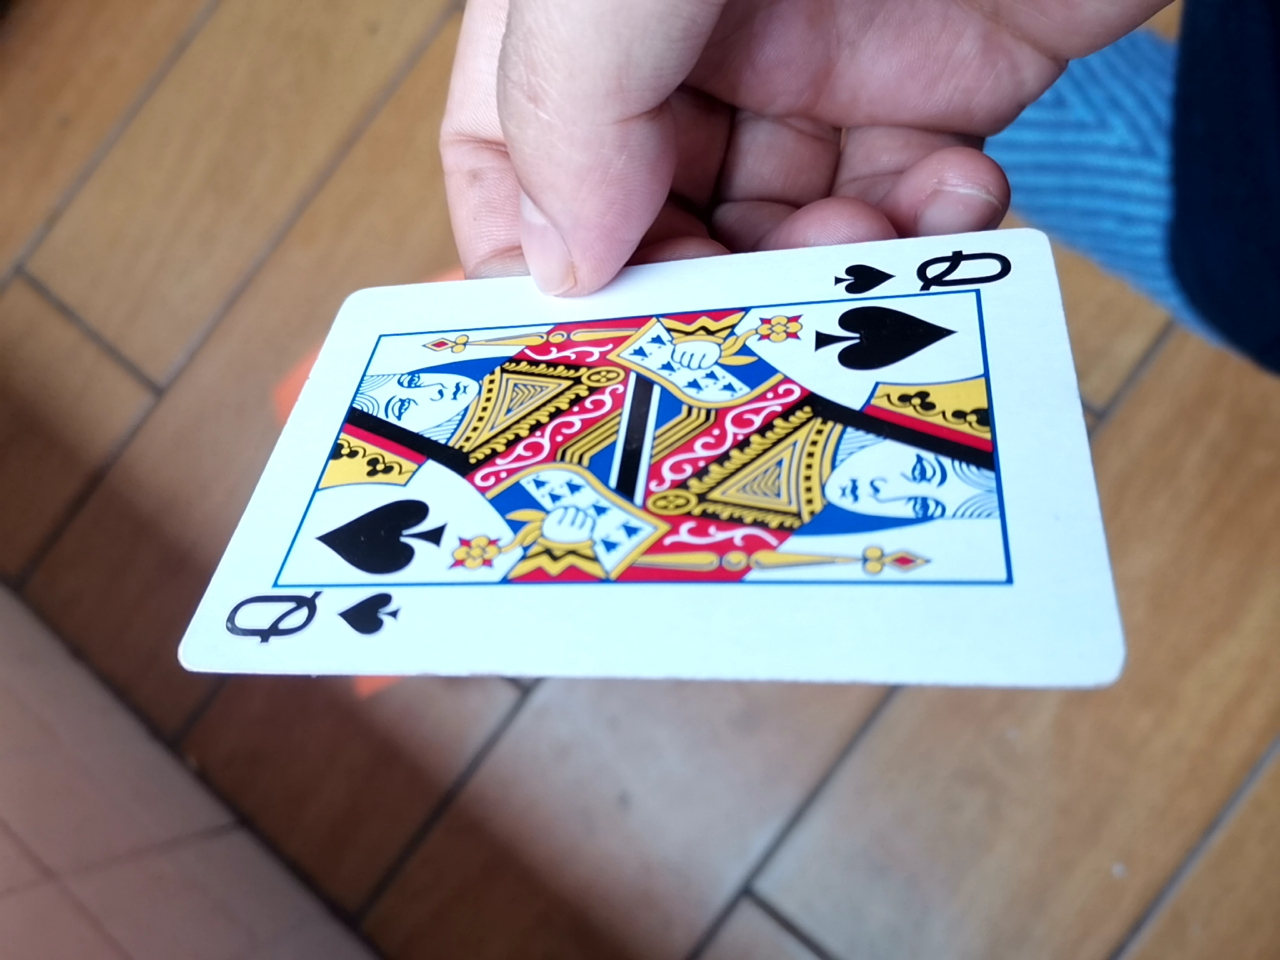ht q: (175, 212, 1105, 699)
